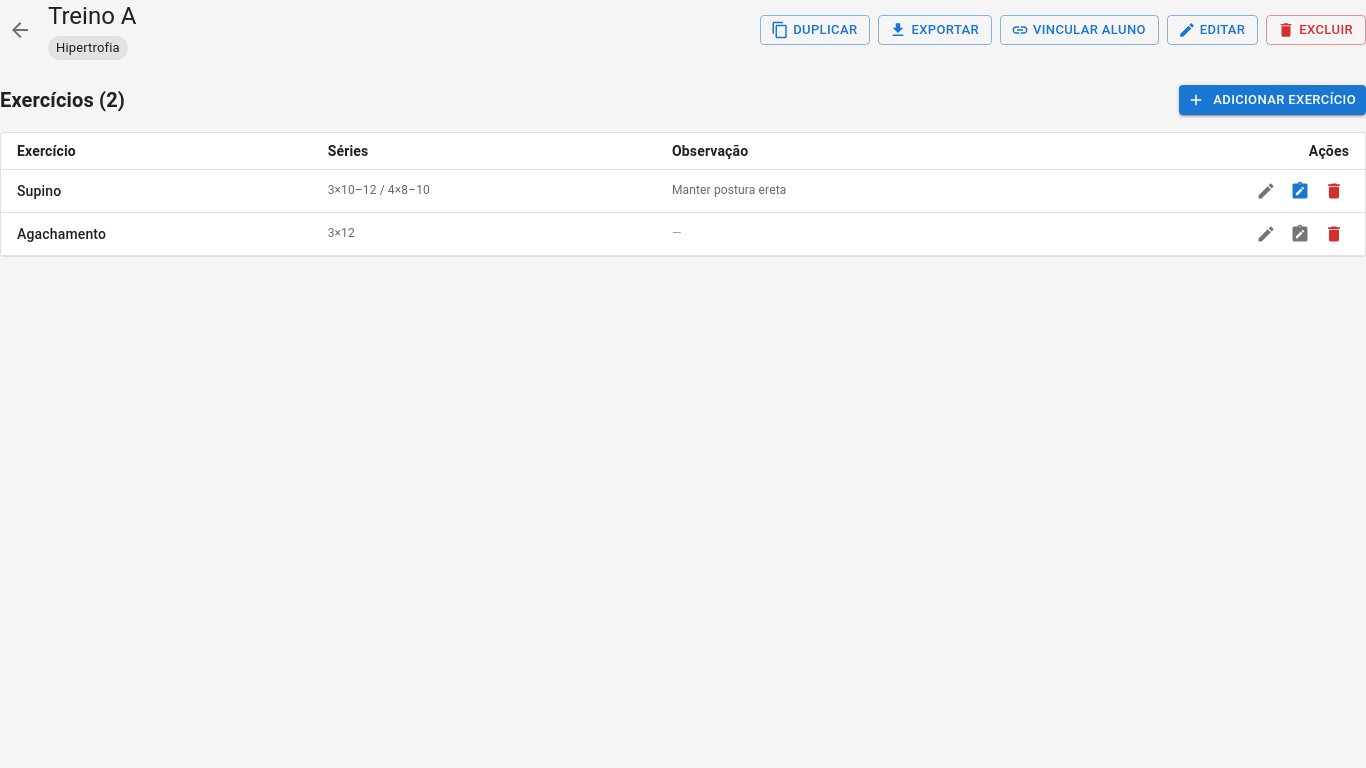
Test: DetalheFichaPage — Editar séries › quantidade vazia em uma das séries é coagida para 1 no PUT, com a outra série válida mantendo o botão habilitado
The width and height of the screenshot is (1366, 768).
Click the button named "Editar séries" in the row of "Supino": (1266, 191) x1=1251 y1=176 x2=1281 y2=206
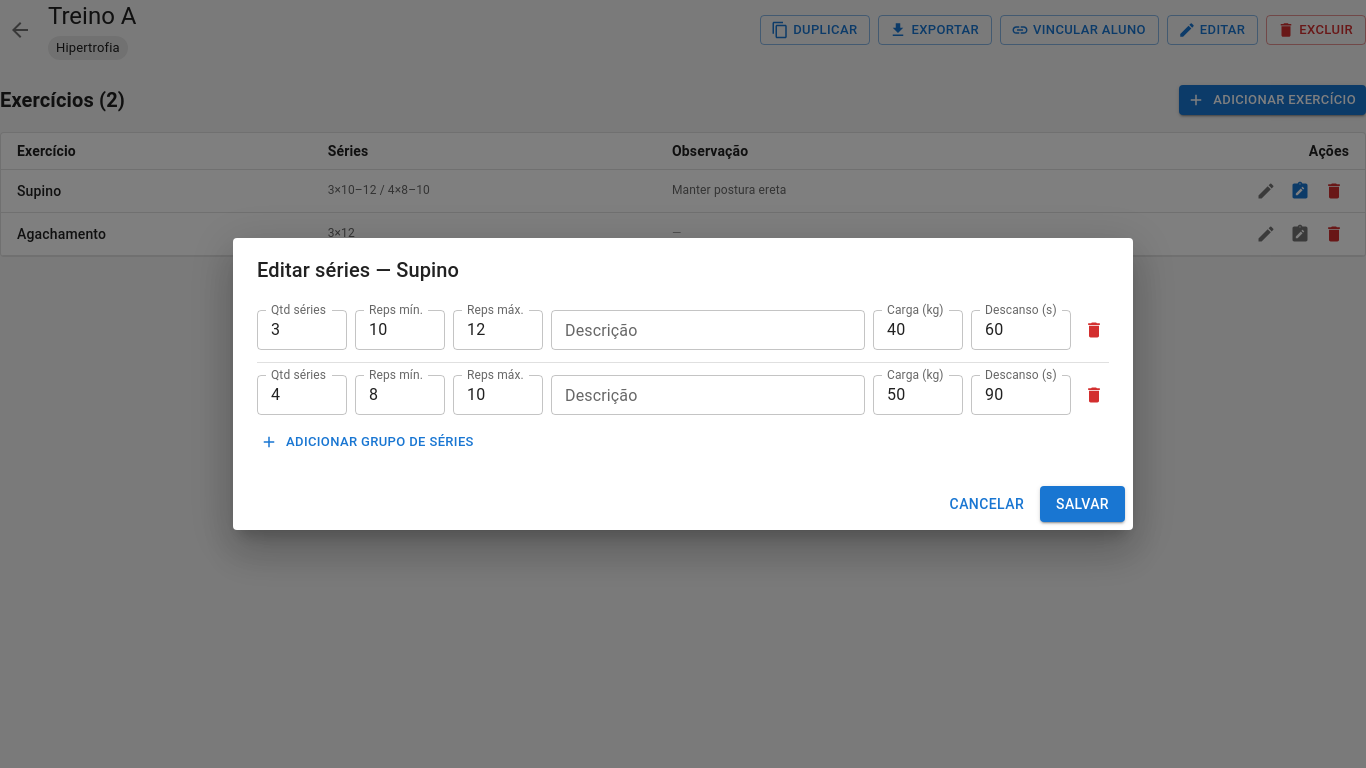
Expected: the heading "Editar séries — Supino" is shown, x1=257 y1=258 x2=459 y2=282
Expected: the number of number fields labelled "Qtd séries" is 2
Clear the 2nd number field labelled "Qtd séries": (302, 395) x1=257 y1=375 x2=347 y2=415
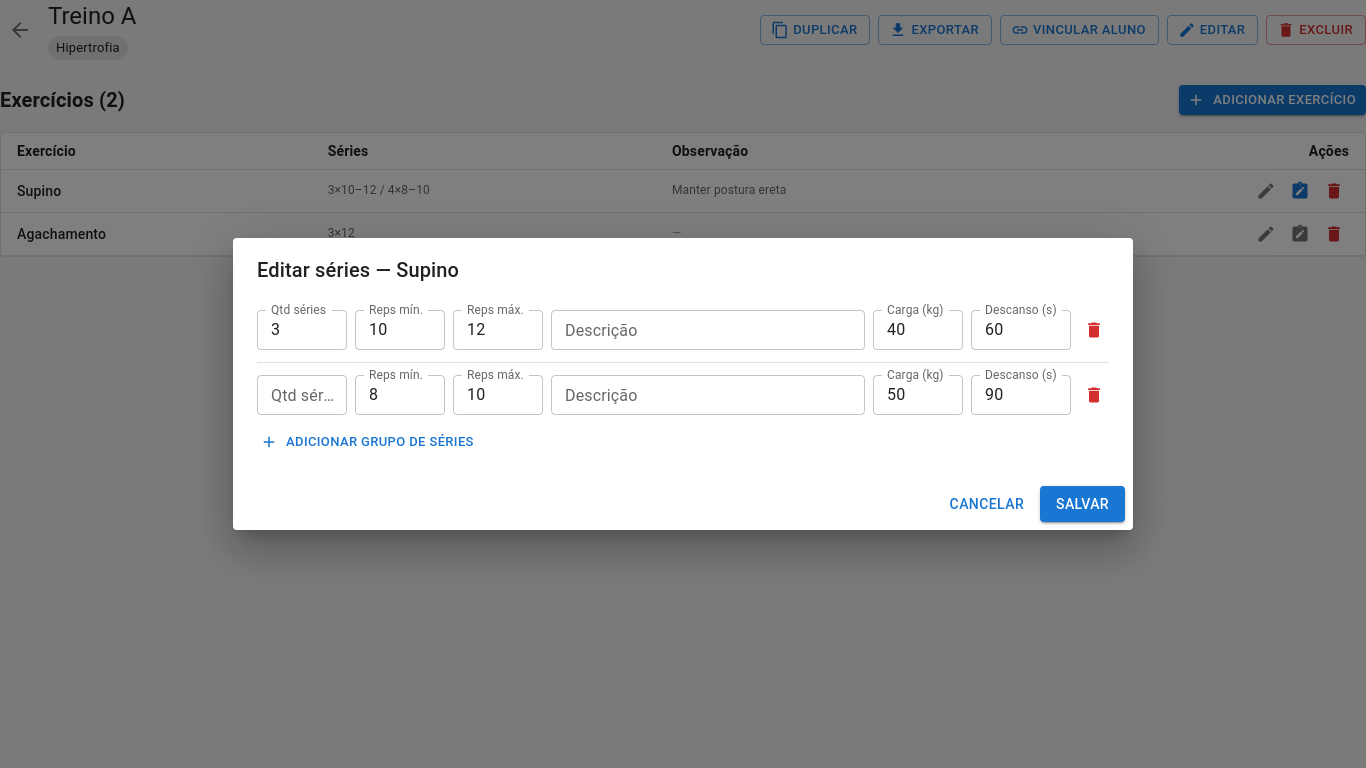
Expected: the button "Salvar" is enabled
Click the button "Salvar": (1082, 504) x1=1040 y1=486 x2=1125 y2=522
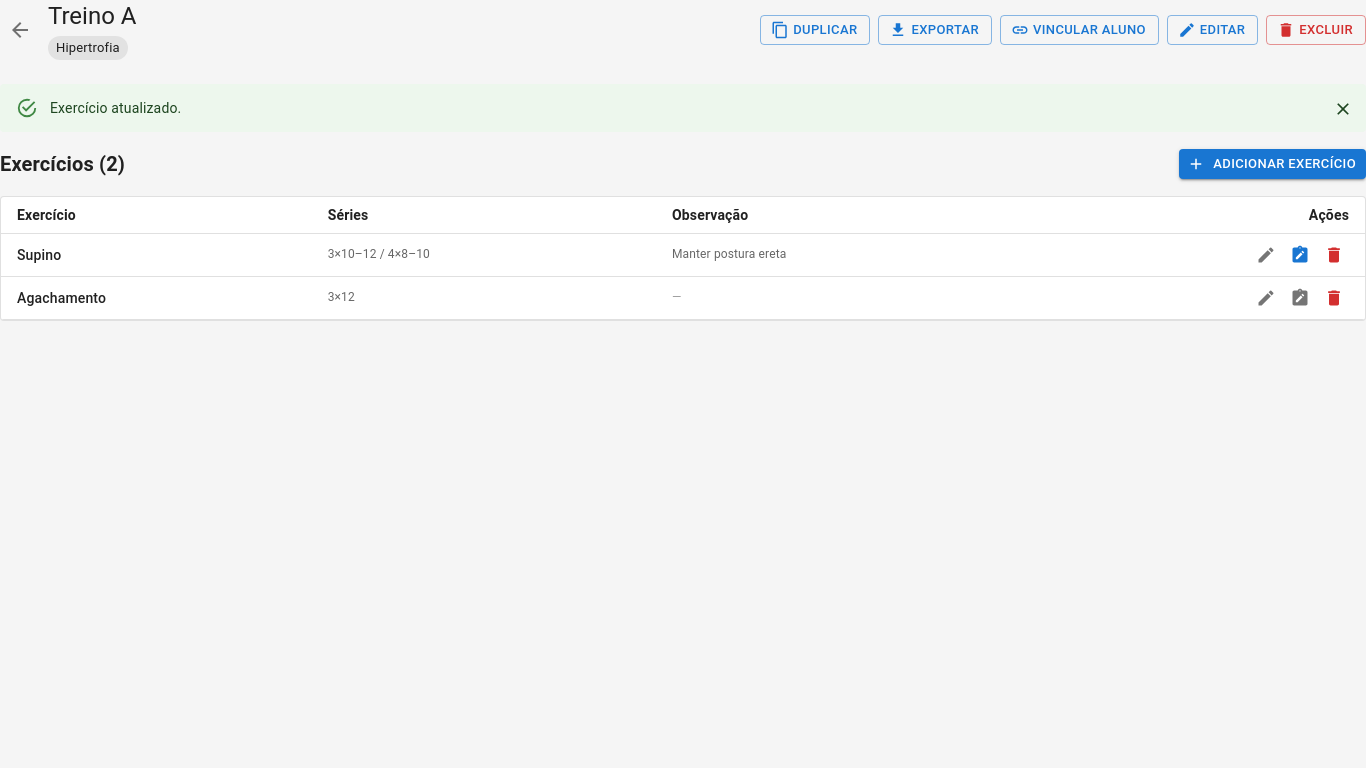
Expected: the text "Exercício atualizado." is shown, x1=50 y1=100 x2=181 y2=116
